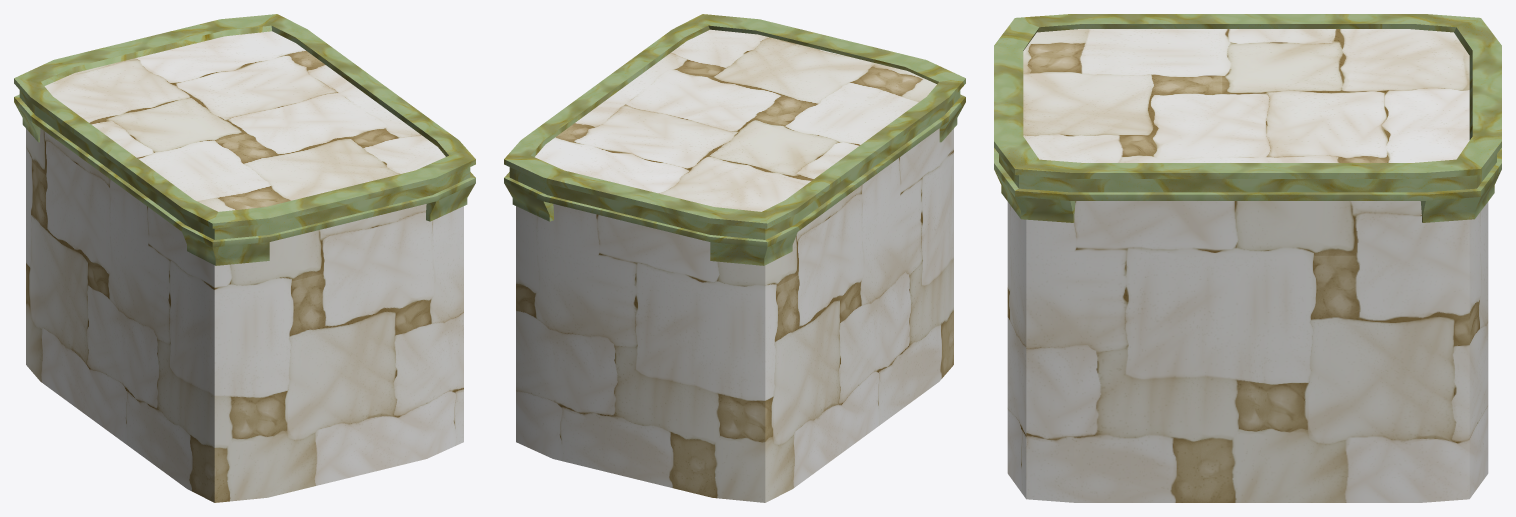
File: BlockHouse_Fat.fbx
3 views of the same model, side by side, from view 1: azimuth 30°, elevation 25°; view 2: azimuth 150°, elevation 25°; view 3: azimuth 270°, elevation 25° (orthographic). The views are drawn at different scales.
Visible parts, largest first — view 1: BlockHouse_Tall.001; view 2: BlockHouse_Tall.001; view 3: BlockHouse_Tall.001.
Part boxes in pixels (<box>): BlockHouse_Tall.001: <box>14,14,475,502</box>; BlockHouse_Tall.001: <box>504,14,965,502</box>; BlockHouse_Tall.001: <box>994,14,1501,502</box>.
Size of the model in its own units: 4.45 by 4.37 by 6.01.
